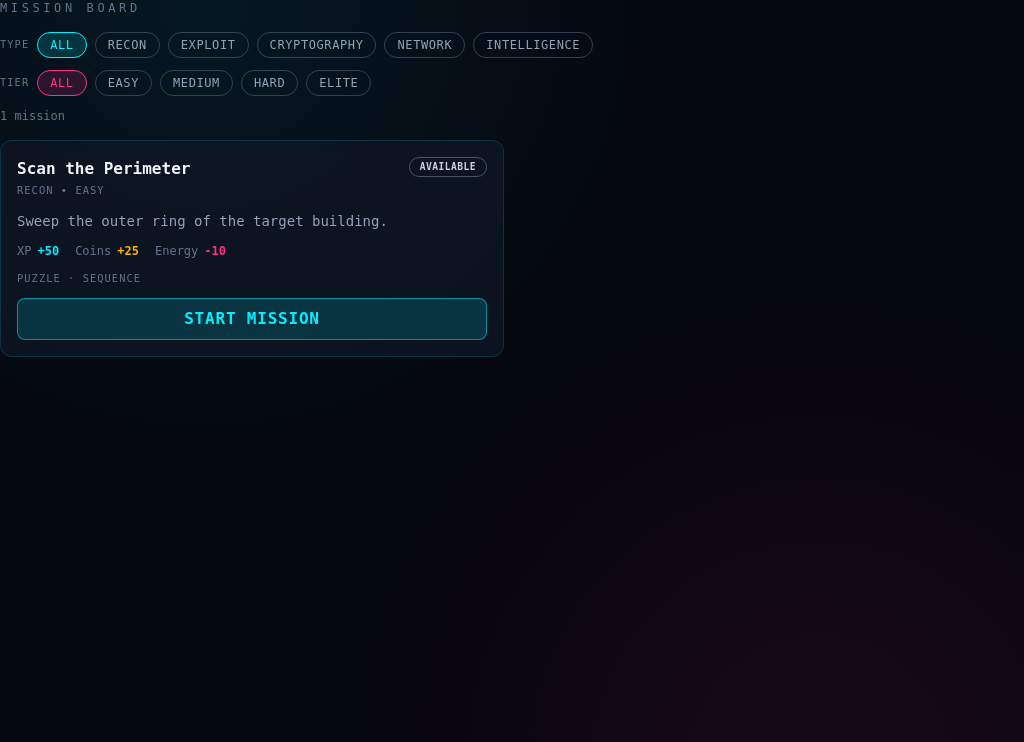
Test case: MissionBoard puzzle loop › starts a mission and renders the returned puzzle
The width and height of the screenshot is (1024, 742).
Expected: the heading "Scan the Perimeter" is shown, [17,157,190,181]
Click the button "Start mission". click: (252, 319)
box: [17,298,487,340]
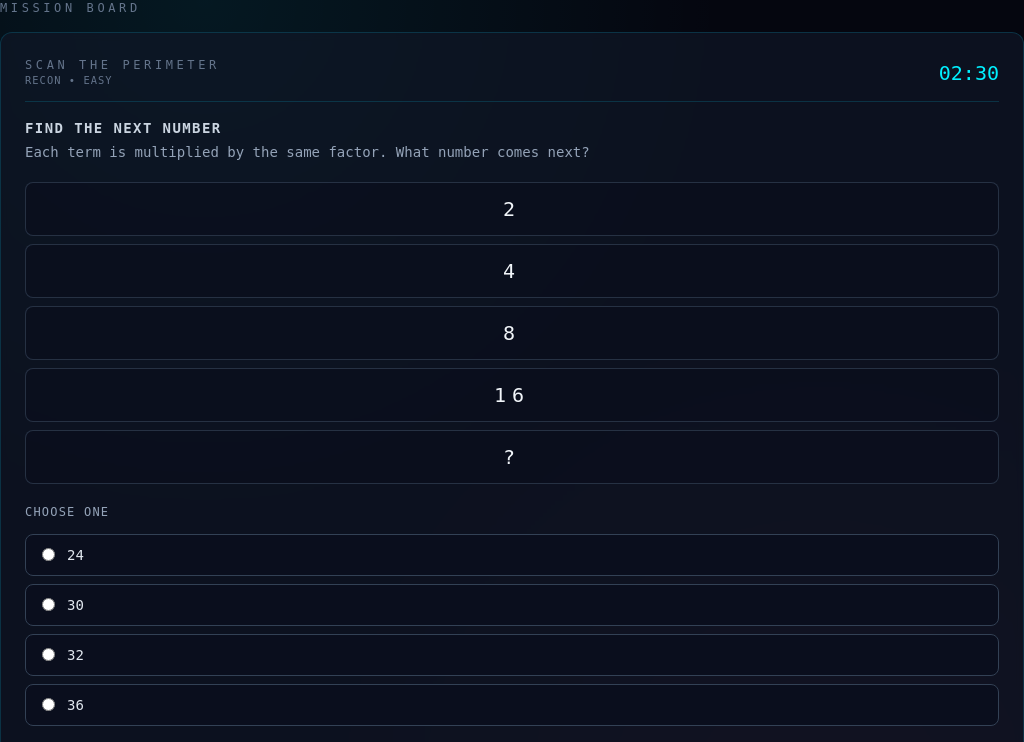
Result: the text "Each term is multiplied by the same factor. What number comes next?" is shown at [25,144,590,160]
Result: the heading "Find the next number" is shown at [25,120,222,136]
Result: the list item "2" is shown at [25,182,999,236]
